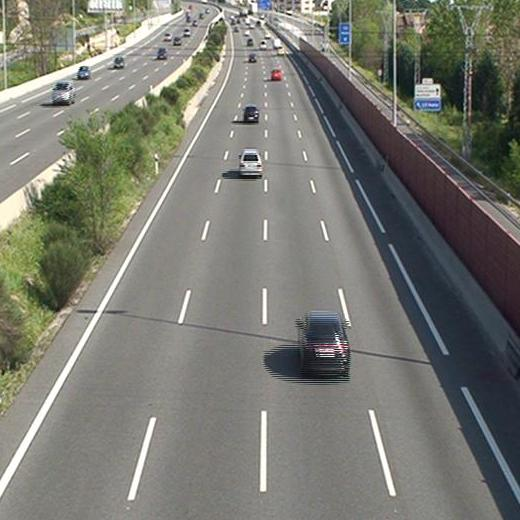car: (297, 312, 350, 373), (238, 150, 263, 177), (244, 106, 260, 123), (270, 68, 282, 80), (248, 52, 258, 63), (275, 46, 284, 55)
